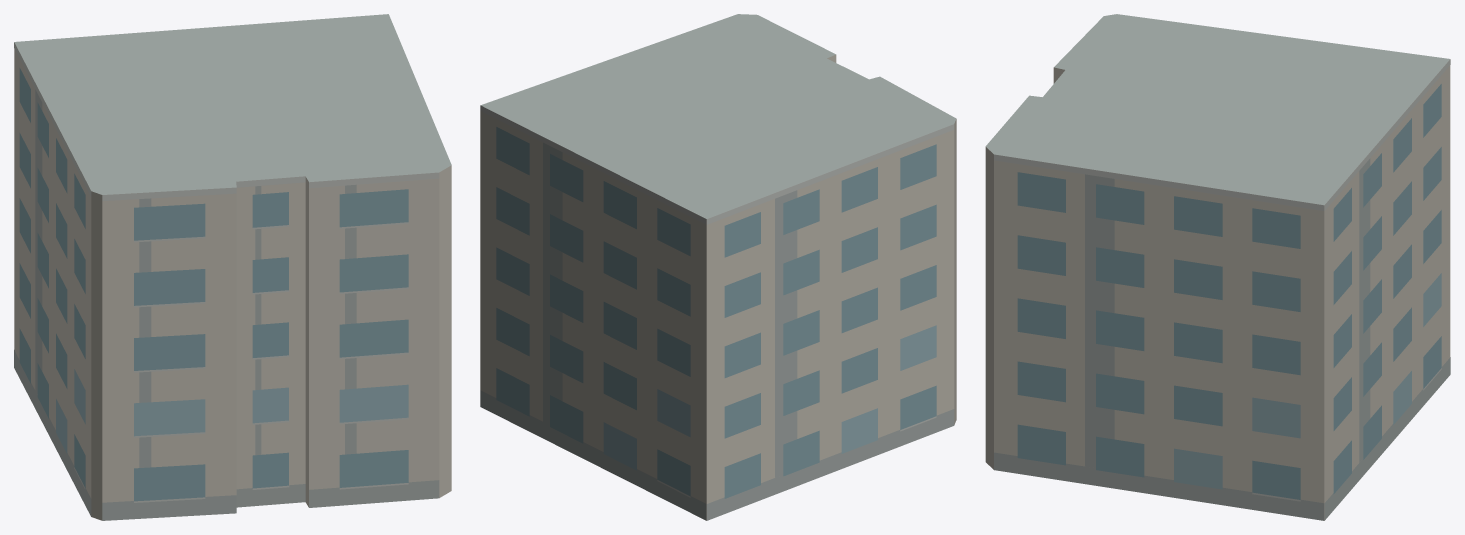
The model's file is survey-upis-32885817.glb.
3 views of the same model, side by side, from view 1: azimuth 30°, elevation 25°; view 2: azimuth 150°, elevation 25°; view 3: azimuth 270°, elevation 25° (orthographic). The views are drawn at different scales.
Visible parts, largest first — view 1: survey-upis-32885817.tmp; view 2: survey-upis-32885817.tmp; view 3: survey-upis-32885817.tmp.
Part boxes in pixels (x1,y1,x2,y2): survey-upis-32885817.tmp: (14,14,451,520); survey-upis-32885817.tmp: (480,14,956,520); survey-upis-32885817.tmp: (985,14,1450,520).
Bounding box in the file's own units: 16.9 × 13 × 17.37.
